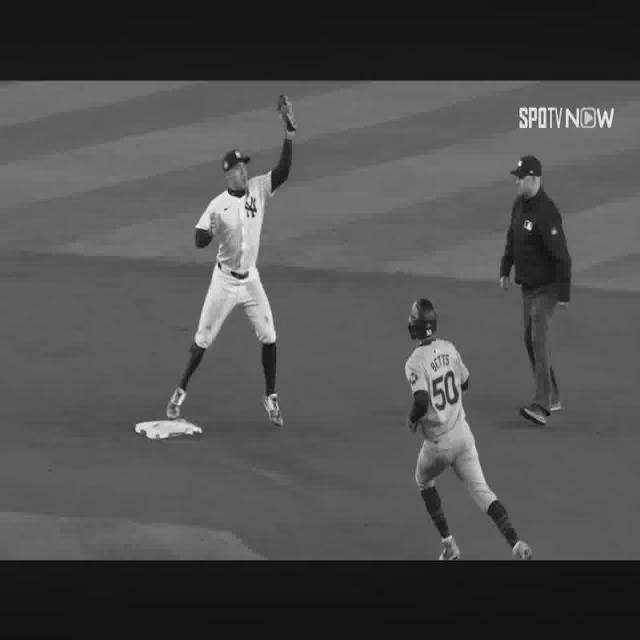base: (135, 418, 202, 440)
baseball_glove: (278, 95, 298, 140)
shoe: (264, 393, 284, 427), (520, 403, 550, 425), (166, 387, 186, 418), (439, 537, 460, 562), (541, 396, 562, 412)
